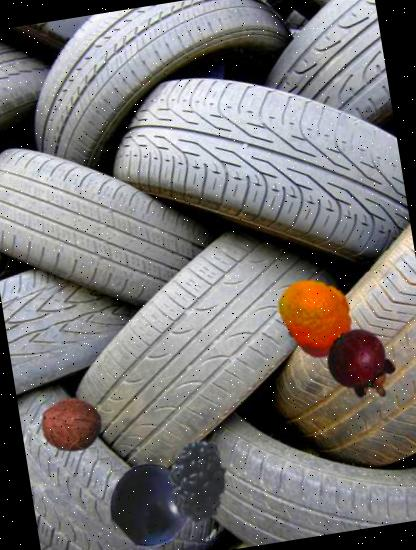Cocos: (34, 388, 108, 462)
Grape: (103, 456, 199, 550)
Mandarine: (271, 270, 365, 364)
Mangostan: (320, 322, 406, 410)
Mulberry: (136, 422, 244, 530)
